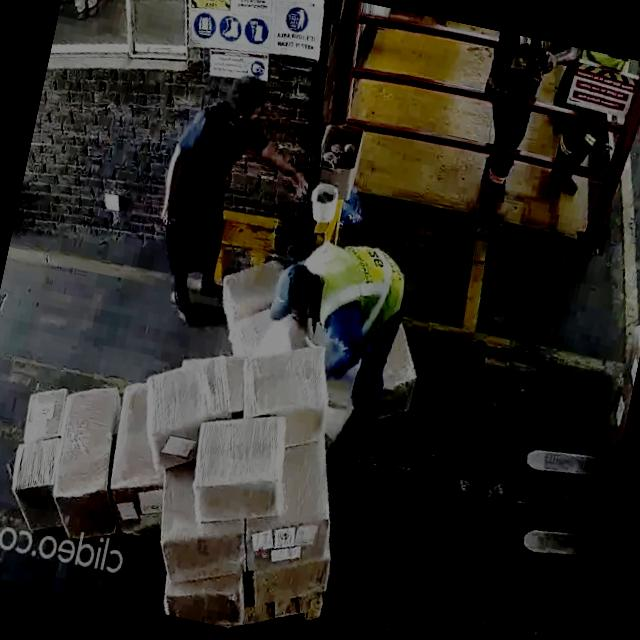Box: (176, 400, 293, 534), (48, 385, 128, 535), (236, 328, 344, 436), (140, 343, 234, 448), (243, 496, 335, 578), (158, 511, 249, 593), (5, 432, 66, 536), (249, 542, 334, 615), (164, 571, 245, 629), (15, 374, 72, 446)
